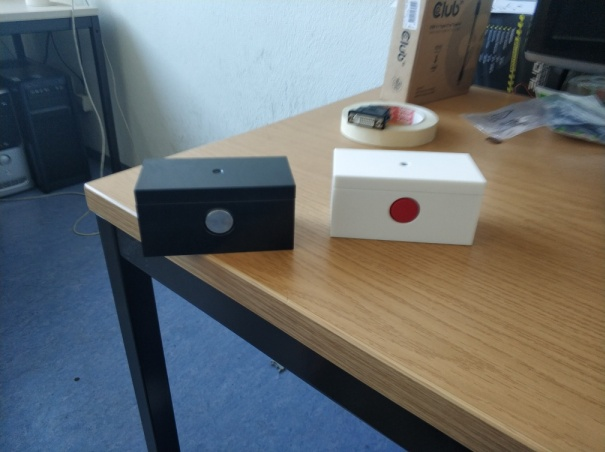black+black+silver: (133, 154, 297, 257)
white+white+red: (325, 147, 487, 246)
